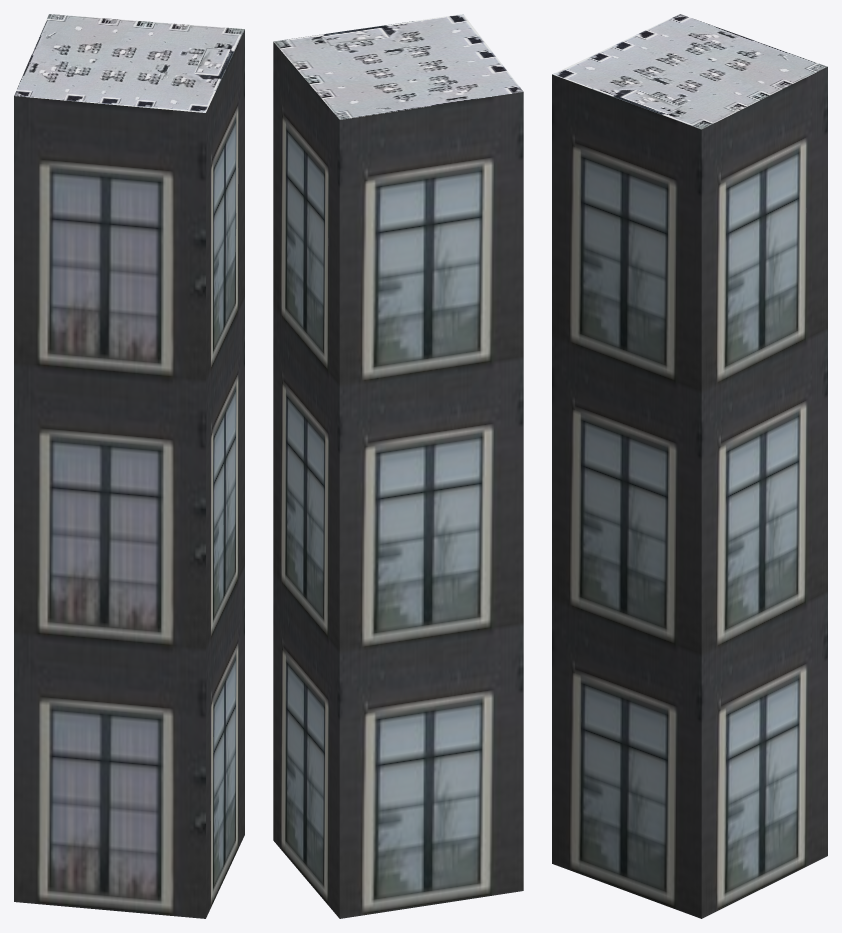
File: ResTex__1755.fbx
3 renders of one model, left to right at view 1: azimuth 30°, elevation 25°; view 2: azimuth 150°, elevation 25°; view 3: azimuth 270°, elevation 25°, orthographic. The views are drawn at different scales.
Visible parts, largest first — view 1: CityEngineMaterial_22_m, CityEngineMaterial_2_m; view 2: CityEngineMaterial_22_m, CityEngineMaterial_2_m; view 3: CityEngineMaterial_22_m, CityEngineMaterial_2_m.
Part boxes in pixels (x1,y1,x2,y2): CityEngineMaterial_22_m: [14, 29, 244, 918]; CityEngineMaterial_2_m: [14, 14, 244, 112]; CityEngineMaterial_22_m: [273, 42, 523, 918]; CityEngineMaterial_2_m: [273, 14, 523, 119]; CityEngineMaterial_22_m: [552, 67, 827, 918]; CityEngineMaterial_2_m: [552, 14, 827, 129].
Size of the model in its own units: 2.83 by 9 by 2.85.
2 materials, 2 textured.
